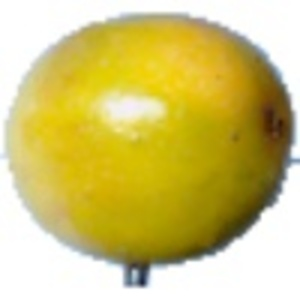maracujá: (1, 12, 300, 289)
